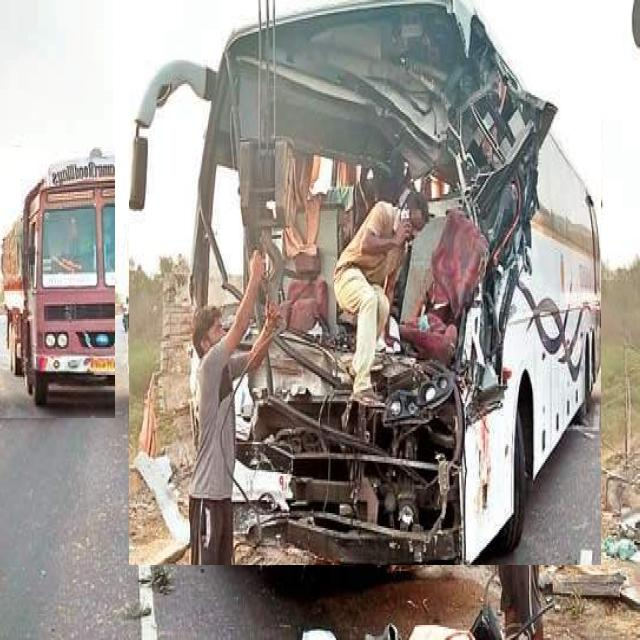accident: (129, 0, 601, 565)
truck: (0, 148, 115, 418)
